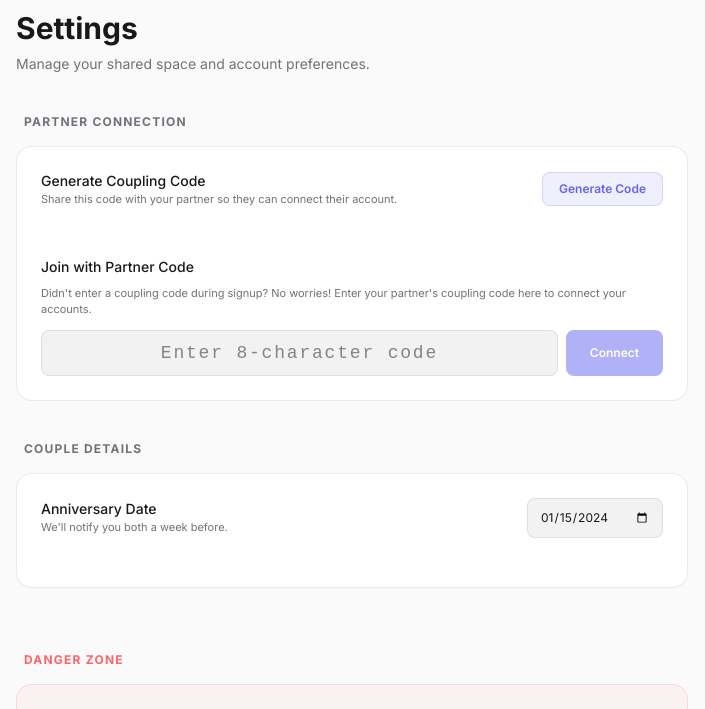
Test case: SettingsView › displays user-friendly error when coupling code generation fails
Click the button "Generate Code": (602, 189) [542,172,663,206]
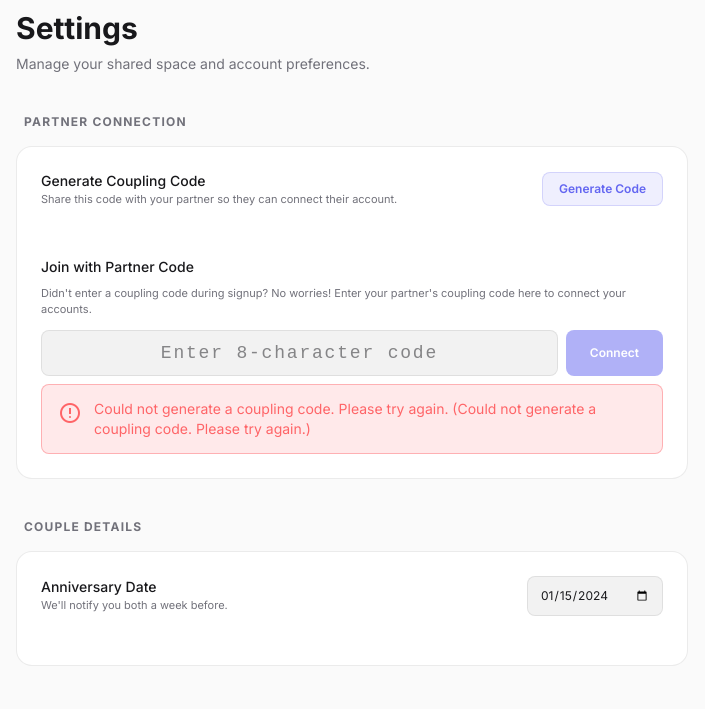
Check: the text "Could not generate a coupling code. Please try again." is shown, box [94,400,596,436]
